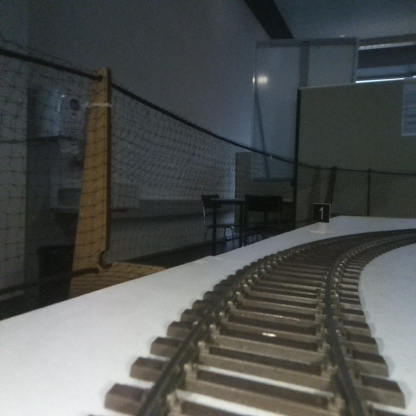black-stop-1: (313, 203, 330, 232)
